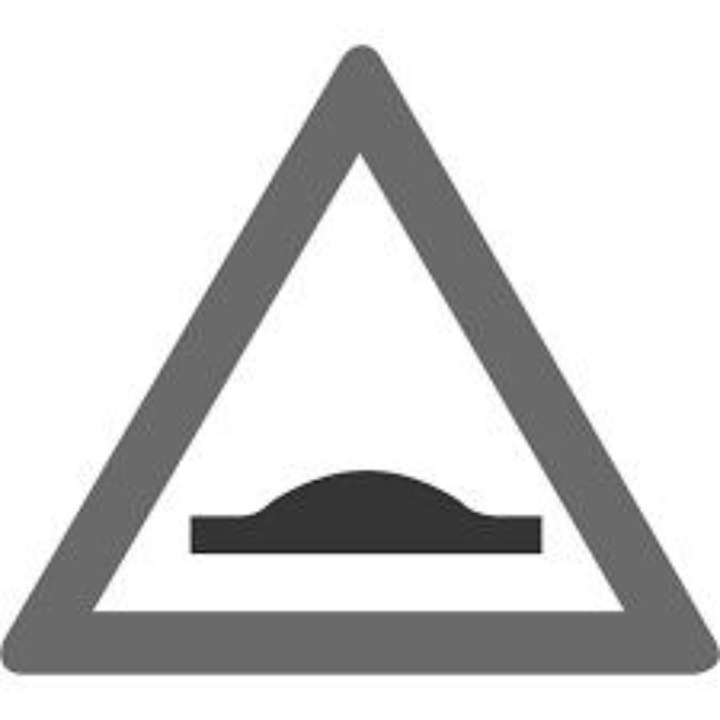bump: (191, 436, 540, 590)
